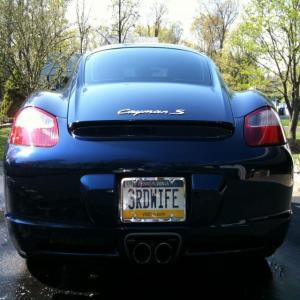Plate: (122, 178, 186, 220)
